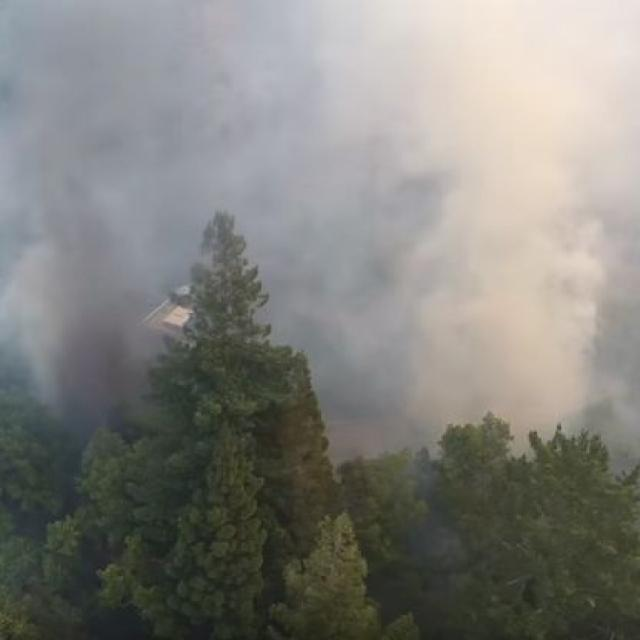Fire: (415, 0, 640, 618)
Smoke: (21, 3, 640, 396)
